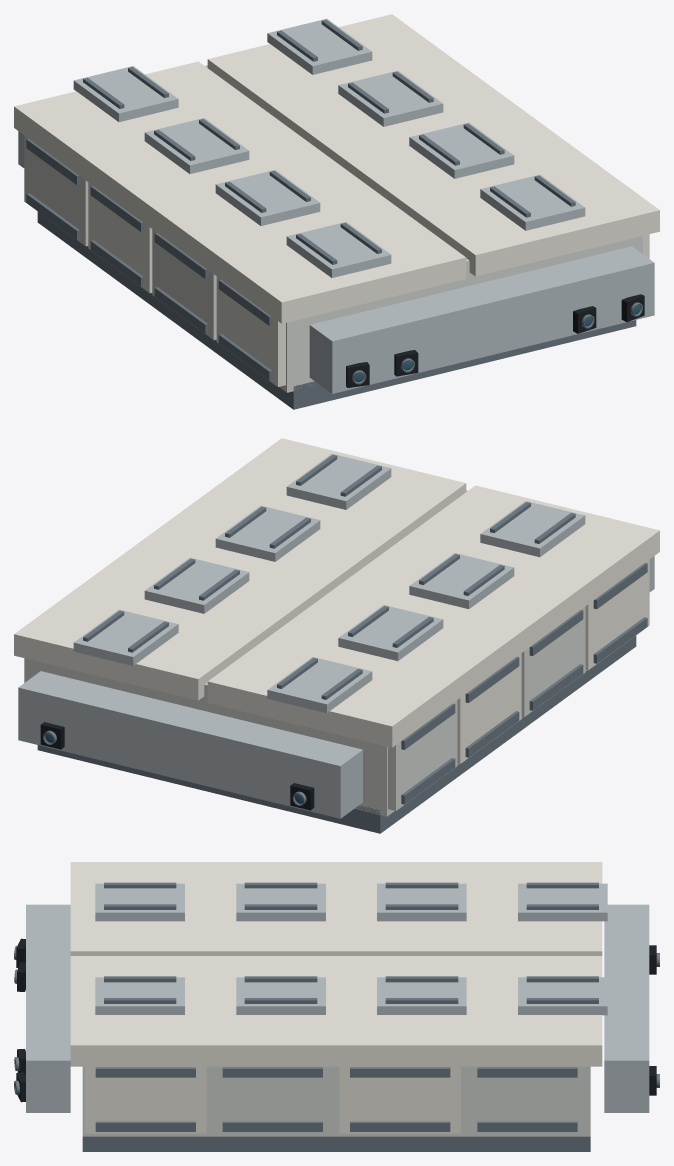
The model's file is perseverance_body.glb.
3 renders of one model, top to bottom at view 1: azimuth 30°, elevation 25°; view 2: azimuth 150°, elevation 25°; view 3: azimuth 270°, elevation 25°, orthographic.
Parts seen in each view (by area): view 1: perseverance_body.deck.mesh_Warm_white_enamel, perseverance_body.deck.mesh_Satin_aluminum, perseverance_body.front_equipment.mesh_Satin_aluminum, perseverance_body.mesh_Machined_steel, perseverance_body.mesh_Pale_thermal_blanket, perseverance_body.mesh_Warm_white_enamel, perseverance_body.deck.mesh_Machined_steel; view 2: perseverance_body.deck.mesh_Warm_white_enamel, perseverance_body.deck.mesh_Satin_aluminum, perseverance_body.rear_equipment.mesh_Satin_aluminum, perseverance_body.mesh_Pale_thermal_blanket, perseverance_body.mesh_Machined_steel, perseverance_body.mesh_Warm_white_enamel, perseverance_body.deck.mesh_Machined_steel; view 3: perseverance_body.deck.mesh_Warm_white_enamel, perseverance_body.deck.mesh_Satin_aluminum, perseverance_body.mesh_Machined_steel, perseverance_body.mesh_Pale_thermal_blanket, perseverance_body.mesh_Warm_white_enamel, perseverance_body.rear_equipment.mesh_Satin_aluminum, perseverance_body.front_equipment.mesh_Satin_aluminum, perseverance_body.deck.mesh_Machined_steel.
Part boxes in pixels (x1,y1,x2,y2): perseverance_body.deck.mesh_Warm_white_enamel: (14, 14, 659, 323); perseverance_body.deck.mesh_Satin_aluminum: (73, 18, 585, 277); perseverance_body.front_equipment.mesh_Satin_aluminum: (309, 246, 654, 393); perseverance_body.mesh_Machined_steel: (26, 139, 636, 409); perseverance_body.mesh_Pale_thermal_blanket: (24, 135, 642, 392); perseverance_body.mesh_Warm_white_enamel: (88, 182, 649, 386); perseverance_body.deck.mesh_Machined_steel: (83, 19, 575, 264); perseverance_body.deck.mesh_Warm_white_enamel: (14, 438, 659, 747); perseverance_body.deck.mesh_Satin_aluminum: (73, 453, 585, 713); perseverance_body.rear_equipment.mesh_Satin_aluminum: (18, 671, 362, 818); perseverance_body.mesh_Pale_thermal_blanket: (24, 606, 586, 816); perseverance_body.mesh_Machined_steel: (37, 563, 647, 833); perseverance_body.mesh_Warm_white_enamel: (457, 559, 649, 763); perseverance_body.deck.mesh_Machined_steel: (83, 454, 575, 699); perseverance_body.deck.mesh_Warm_white_enamel: (70, 862, 602, 1066); perseverance_body.deck.mesh_Satin_aluminum: (95, 883, 607, 1015); perseverance_body.mesh_Machined_steel: (82, 1067, 590, 1151); perseverance_body.mesh_Pale_thermal_blanket: (82, 1066, 590, 1136); perseverance_body.mesh_Warm_white_enamel: (85, 1066, 460, 1133); perseverance_body.rear_equipment.mesh_Satin_aluminum: (604, 904, 649, 1112); perseverance_body.front_equipment.mesh_Satin_aluminum: (26, 904, 70, 1112); perseverance_body.deck.mesh_Machined_steel: (104, 882, 598, 1003).
Bounding box in the file's own units: 2.03 × 0.658 × 3.03.
